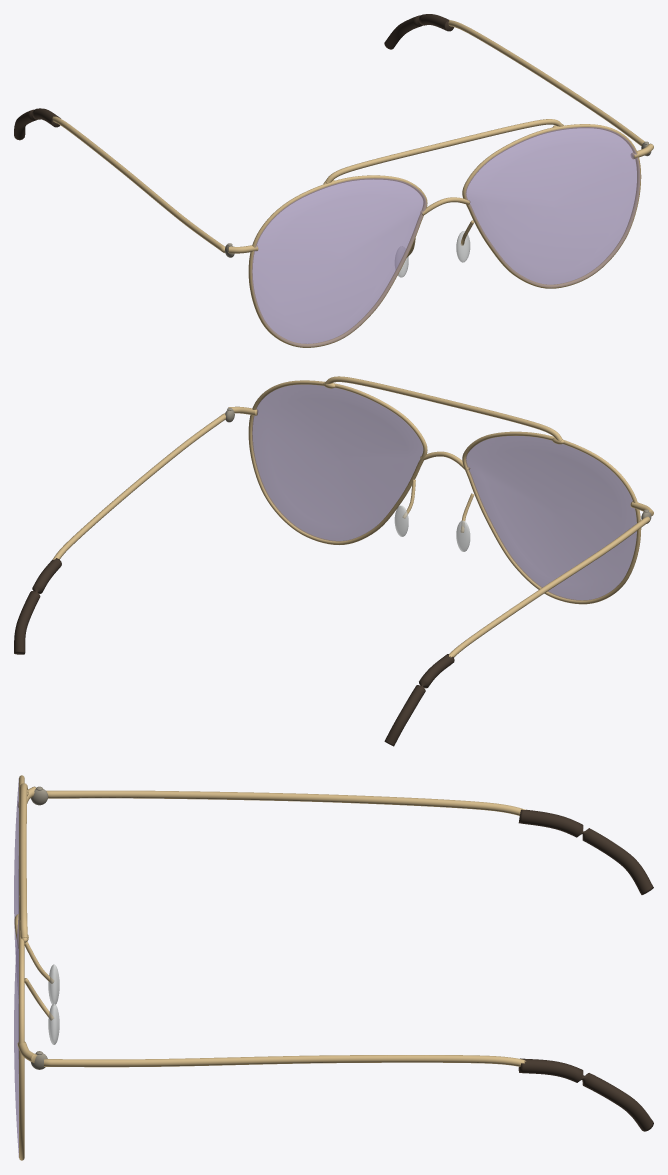
File: aviator_lavender.glb
The picture shows the model from 3 angles, top to bottom: view 1: azimuth 30°, elevation 25°; view 2: azimuth 150°, elevation 25°; view 3: azimuth 270°, elevation 25°; orthographic projection. The views are drawn at different scales.
Parts seen in each view (by area): view 1: left_lens, right_lens, left_rim, right_rim, top_brow_bar, right_temple, left_temple, right_ear_tip, left_ear_tip; view 2: right_lens, left_lens, left_rim, right_rim, left_temple, top_brow_bar, right_temple, left_ear_tip, right_ear_tip; view 3: left_temple, right_temple, left_ear_tip, right_ear_tip, right_rim, top_brow_bar, right_lens, left_lens.
Part boxes in pixels (x1,y1,x2,y2): left_lens: [251, 178, 426, 346]; right_lens: [465, 127, 640, 287]; left_rim: [248, 175, 427, 347]; right_rim: [462, 124, 641, 288]; top_brow_bar: [325, 119, 563, 183]; right_temple: [448, 20, 644, 146]; left_temple: [52, 116, 225, 252]; right_ear_tip: [384, 14, 453, 49]; left_ear_tip: [14, 108, 60, 140]; right_lens: [252, 384, 423, 541]; left_lens: [465, 436, 636, 600]; left_rim: [462, 431, 641, 604]; right_rim: [248, 380, 427, 544]; left_temple: [449, 516, 650, 657]; top_brow_bar: [324, 376, 562, 441]; right_temple: [52, 413, 225, 559]; left_ear_tip: [384, 654, 454, 746]; right_ear_tip: [14, 558, 61, 654]; left_temple: [46, 790, 525, 815]; right_temple: [44, 1055, 525, 1067]; left_ear_tip: [518, 809, 653, 894]; right_ear_tip: [518, 1058, 653, 1131]; right_rim: [19, 909, 24, 1160]; top_brow_bar: [19, 783, 27, 938]; right_lens: [14, 911, 18, 1157]; left_lens: [14, 778, 18, 989].
Size of the model in its own units: 0.1461 by 0.0565 by 0.1452.
